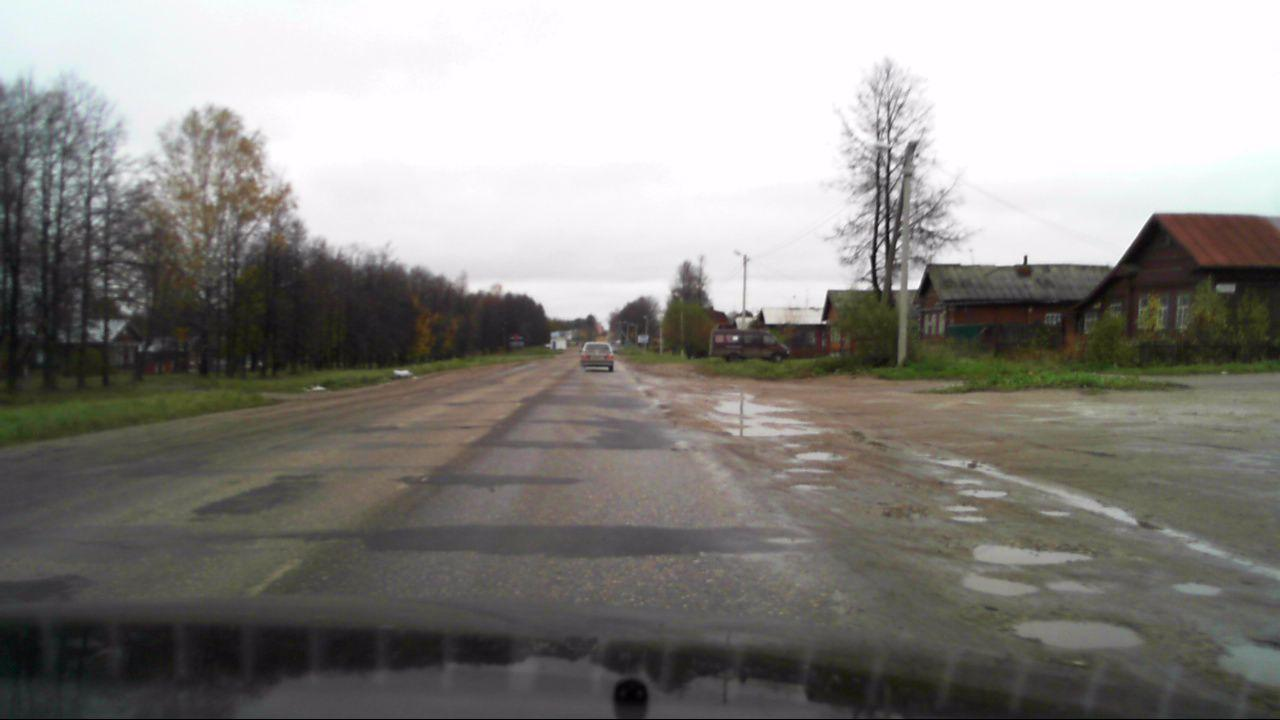pothole: (943, 455, 1122, 511), (1008, 613, 1148, 645), (974, 541, 1088, 567), (723, 422, 821, 439), (968, 577, 1038, 593), (795, 448, 850, 461)
